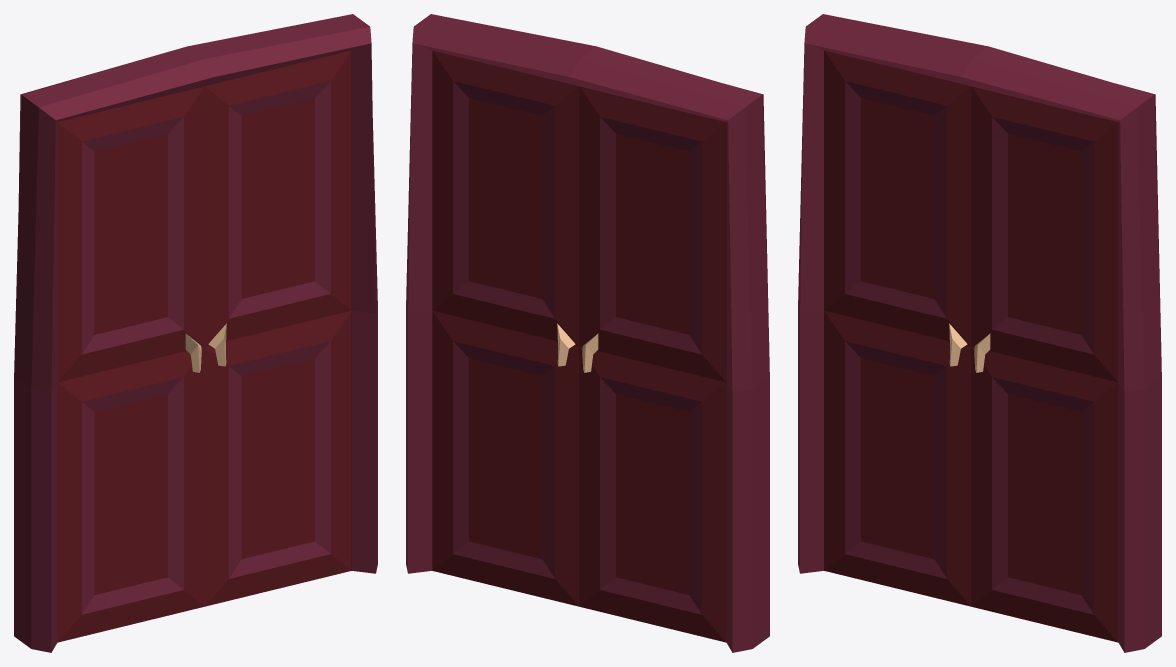
Rendered from PortaMansãoMoretti.fbx.
The picture shows the model from 3 angles, left to right: view 1: azimuth 30°, elevation 25°; view 2: azimuth 150°, elevation 25°; view 3: azimuth 330°, elevation 25°; orthographic projection.
Parts seen in each view (by area): view 1: PortaDireita, PortaEsquerda, BatenteBase; view 2: PortaDireita, PortaEsquerda, BatenteBase; view 3: PortaEsquerda, PortaDireita, BatenteBase.
Boxes of the visible parts, left/top/right/bottom form: PortaDireita: left=57, top=86, right=204, bottom=642; PortaEsquerda: left=204, top=50, right=351, bottom=606; BatenteBase: left=14, top=14, right=377, bottom=652; PortaDireita: left=579, top=86, right=726, bottom=642; PortaEsquerda: left=432, top=50, right=579, bottom=606; BatenteBase: left=406, top=14, right=769, bottom=652; PortaEsquerda: left=971, top=86, right=1118, bottom=642; PortaDireita: left=824, top=50, right=971, bottom=606; BatenteBase: left=798, top=14, right=1161, bottom=652.
Bounding box in the file's own units: 1.86 × 2.81 × 0.3291.
